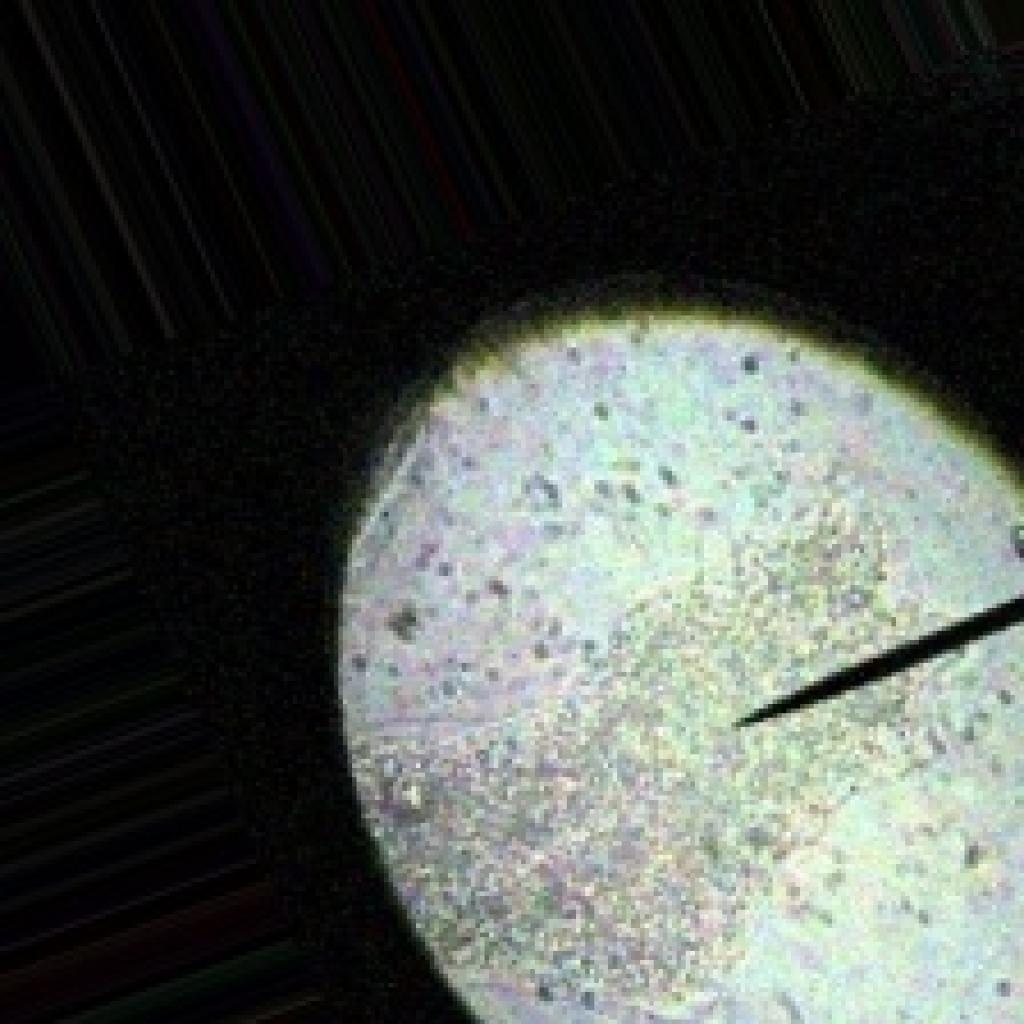Amoeba: (329, 284, 1020, 1020)
